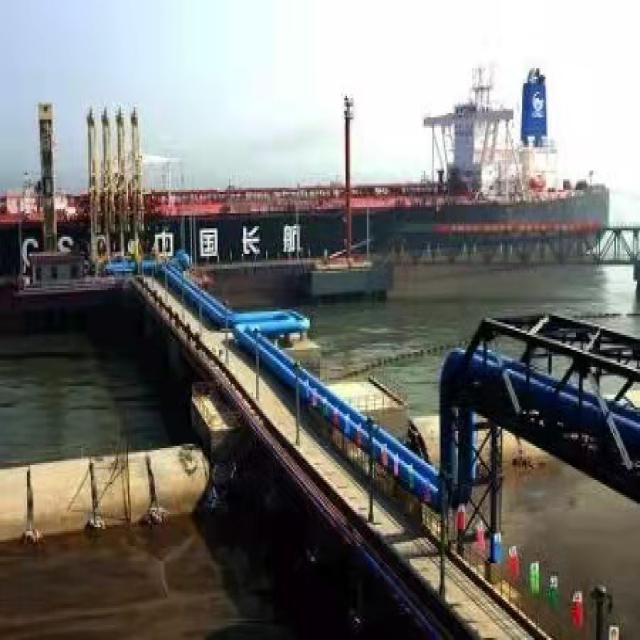cargoship: (8, 79, 619, 284)
